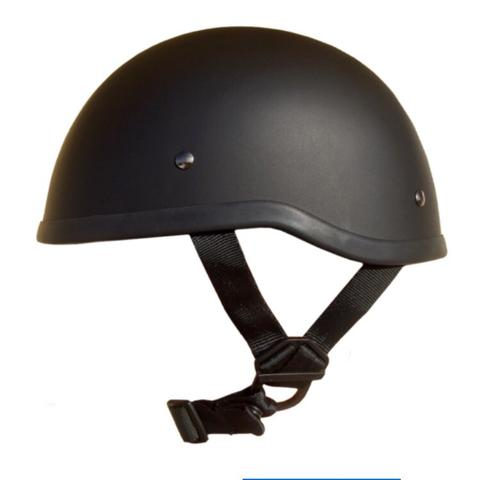with_helmet: (25, 19, 456, 279)
